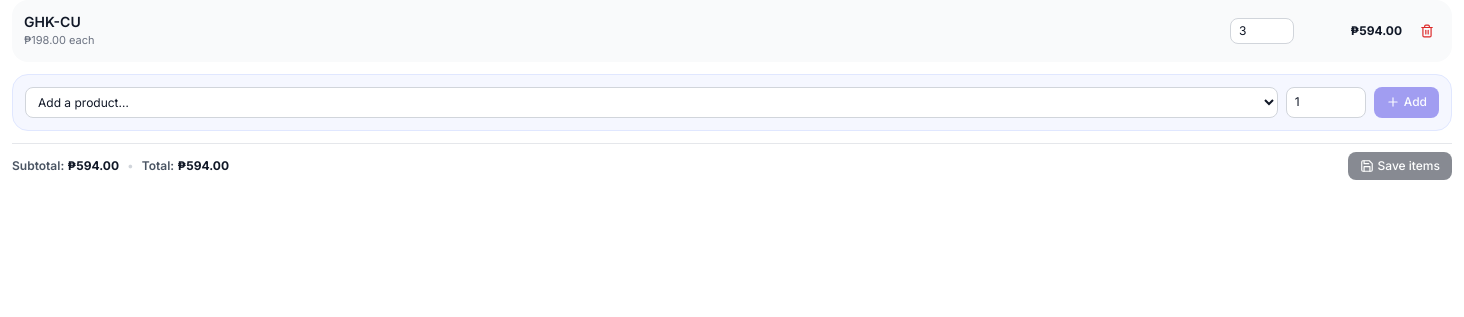
Test: OrderItemsEditor — added vs kept split › drops the added line from the draft after a successful save
Select "AHK-CU — ₱400.00" in the dropdown at (651,102), box [25,87,1278,118]
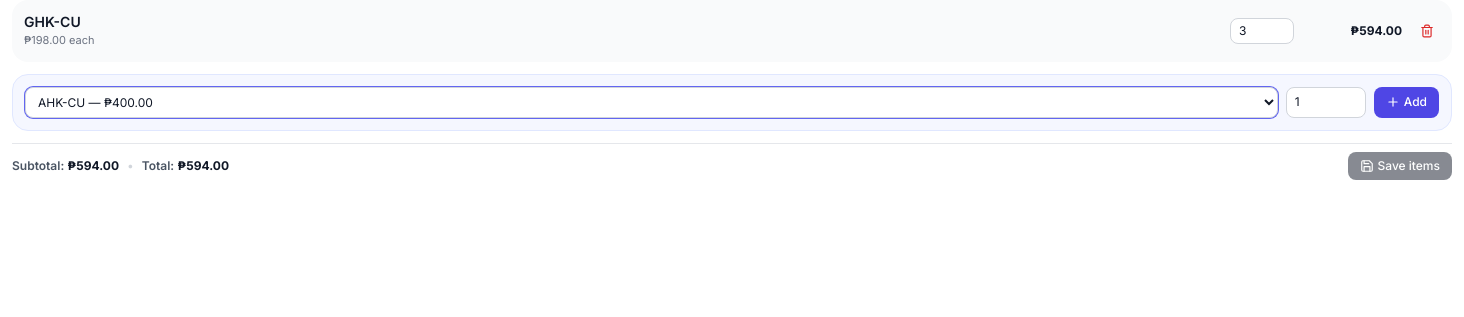
Click the button "Add" at (1406,102), box [1374,87,1439,118]
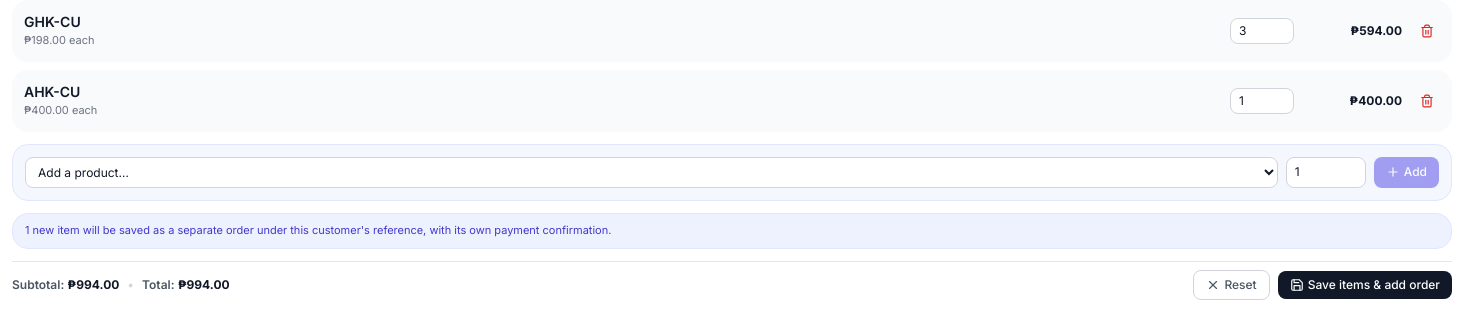
Click the button "Save items & add order" at (1365,285), box [1278,271,1452,299]
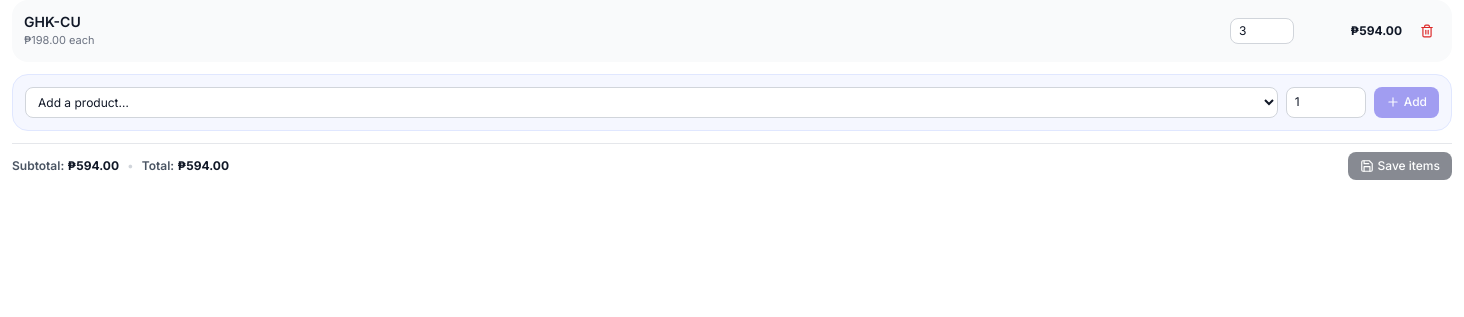
Expected: the text "GHK-CU" is shown, [24,13,81,30]
Now the text "AHK-CU" is gone
